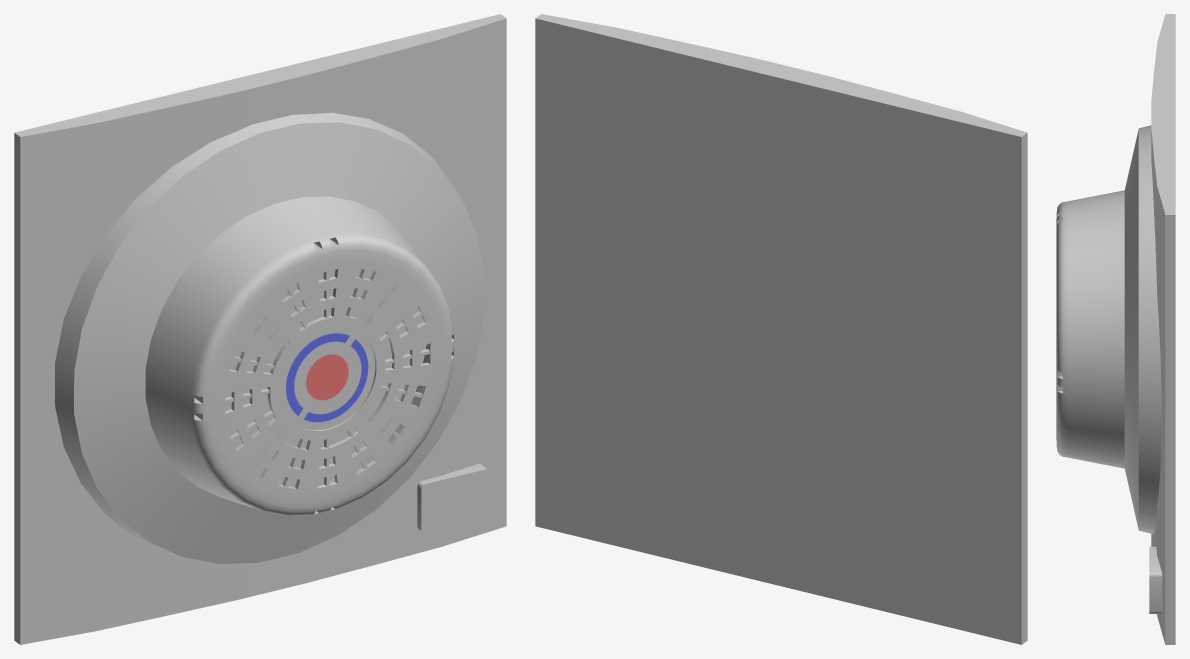
Rendered from LC_3002_electronic_siren_LOD3.FBX.
3 views of the same model, side by side, from view 1: azimuth 30°, elevation 25°; view 2: azimuth 150°, elevation 25°; view 3: azimuth 270°, elevation 25° (orthographic). The views are drawn at different scales.
Parts seen in each view (by area): view 1: LC_3002_electronic_siren_LOD3; view 2: LC_3002_electronic_siren_LOD3; view 3: LC_3002_electronic_siren_LOD3.
Boxes of the visible parts, x1,y1,x2,y2 form: LC_3002_electronic_siren_LOD3: [14, 14, 506, 644]; LC_3002_electronic_siren_LOD3: [535, 14, 1027, 644]; LC_3002_electronic_siren_LOD3: [1056, 14, 1175, 644].
Size of the model in its own units: 12.45 by 12.42 by 3.12.
